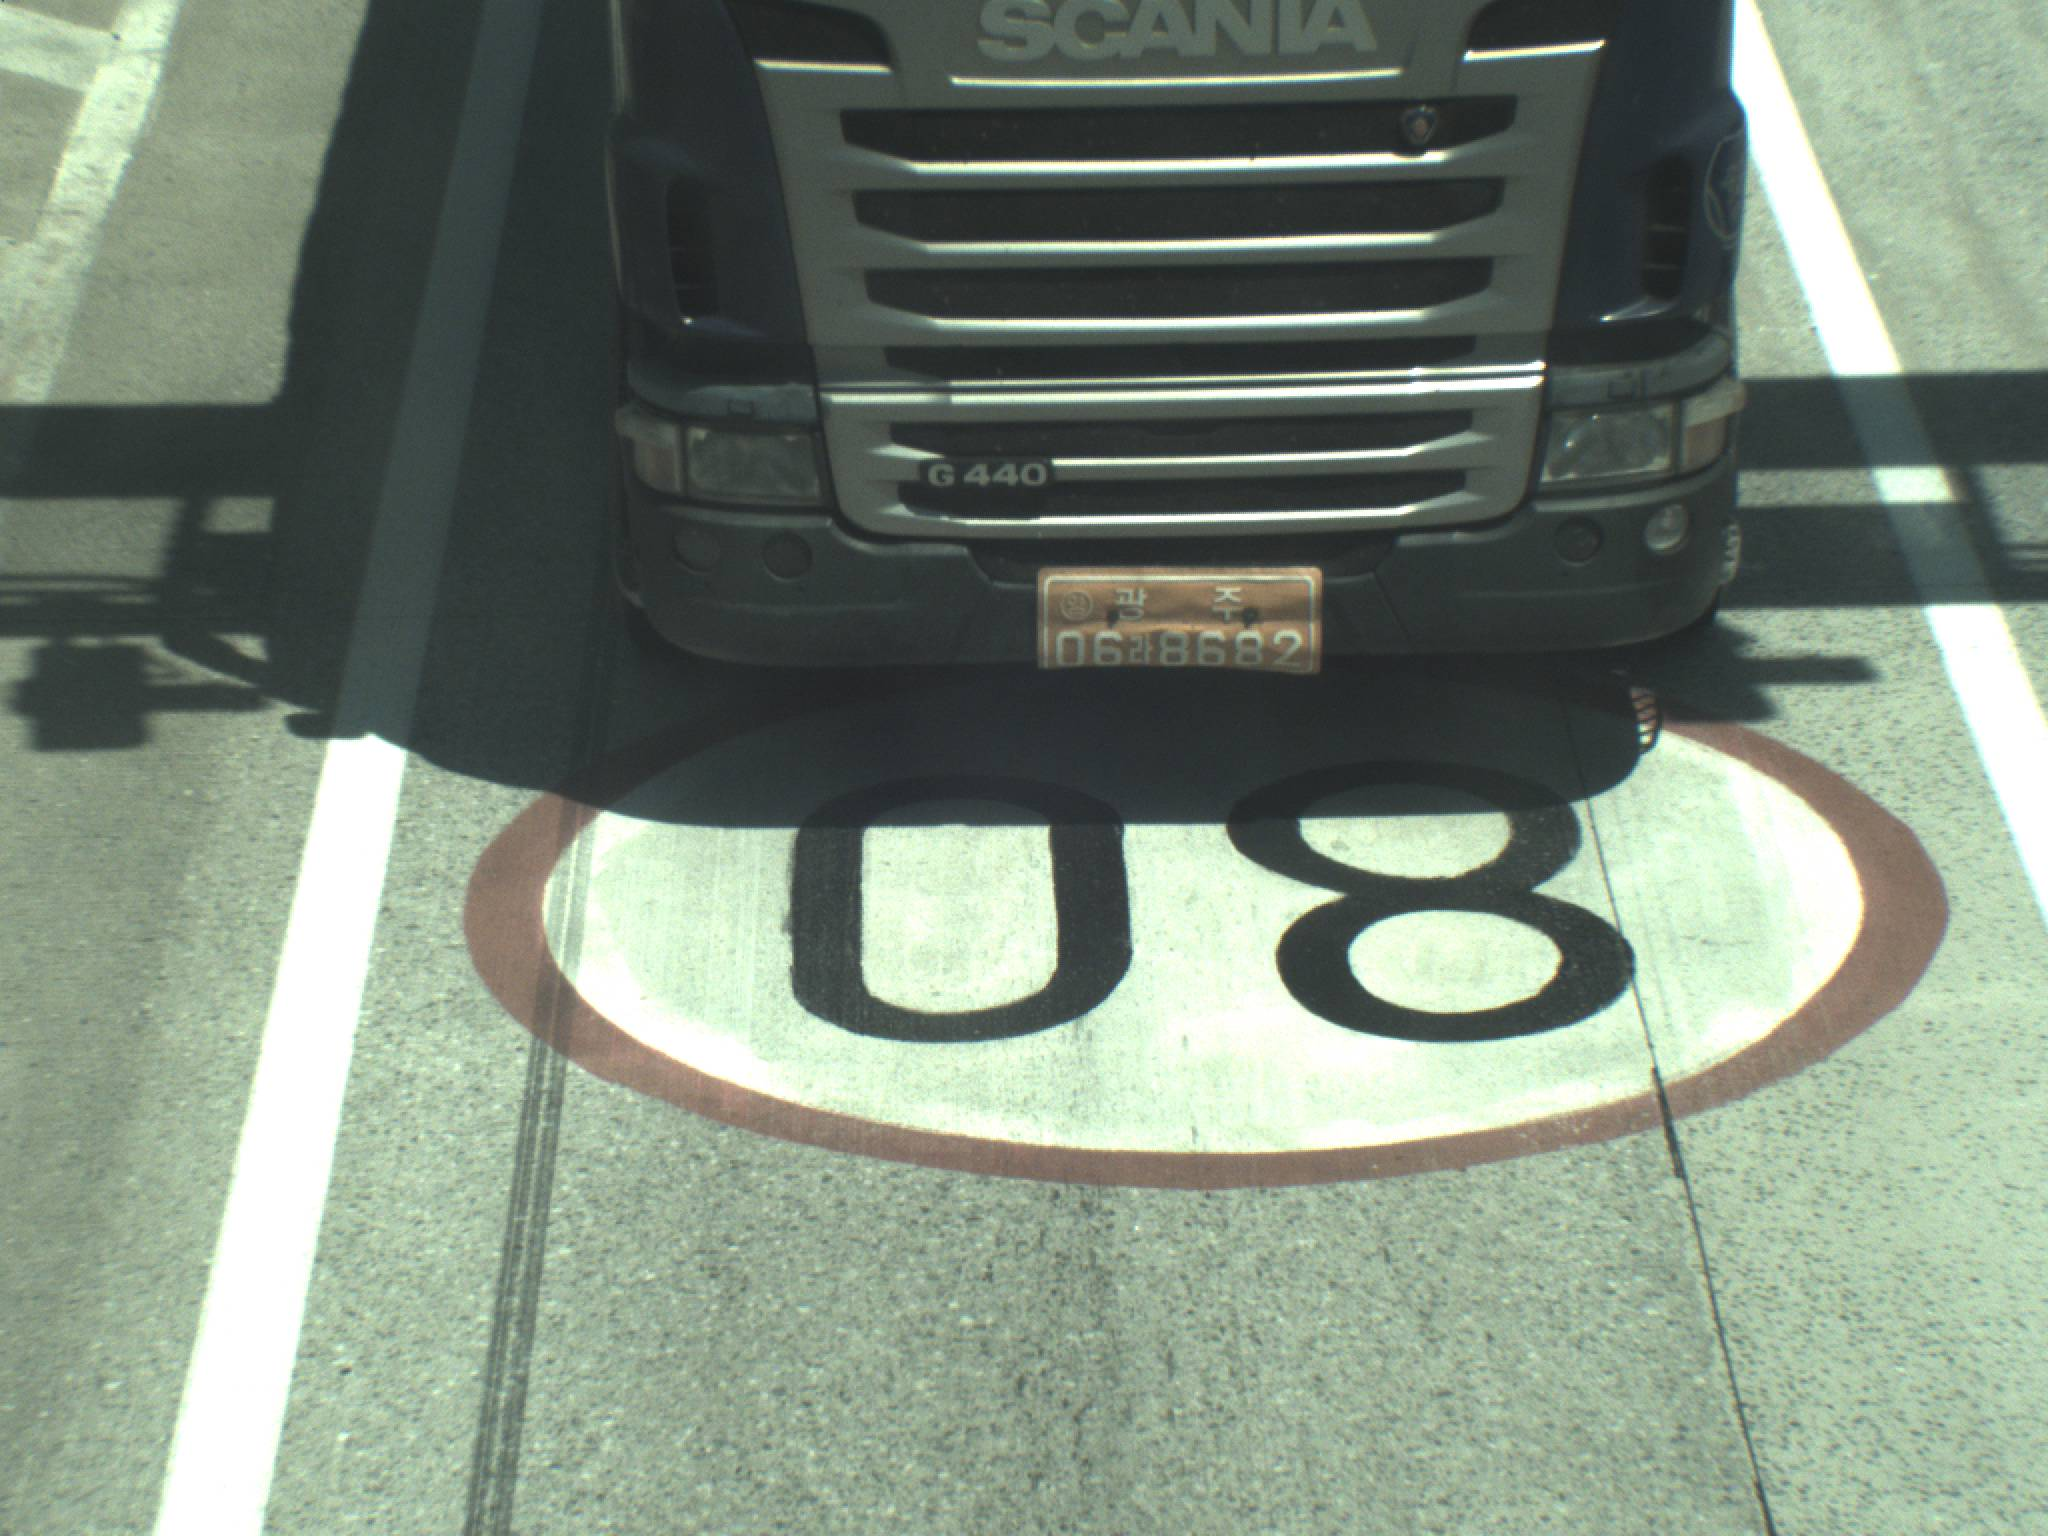car: (589, 1, 1745, 691)
plate: (1029, 559, 1329, 683)
